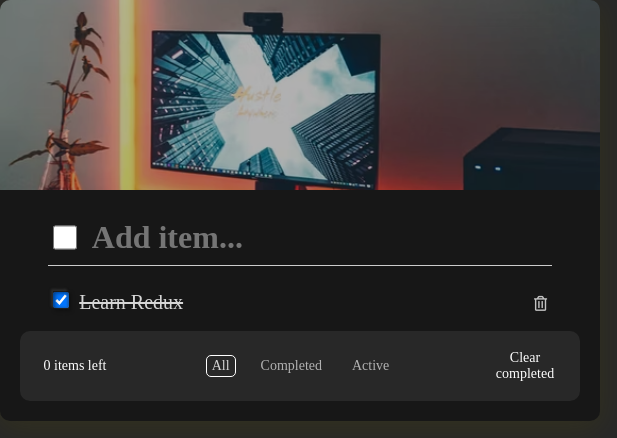
it: ToDoListContainer › should edit todo on double click and blur
Double-click the label with test id "list-item-text".
double_click(131, 302)  # box [79,291,183,313]
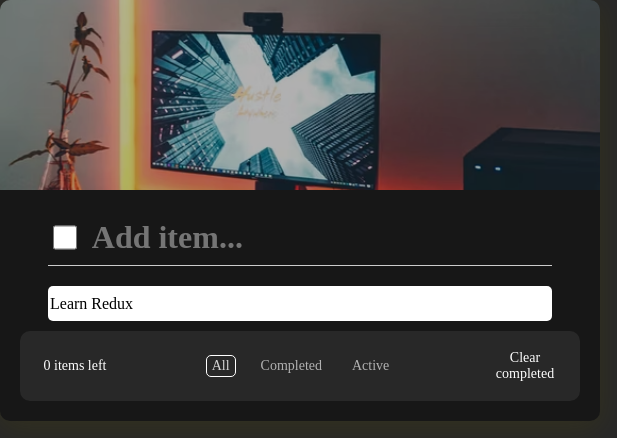
Expected: the field with test id "edit-item" is shown
Type " Native" into the field with test id "edit-item".
click(300, 304); type(" Native")  # box [48,286,552,321]
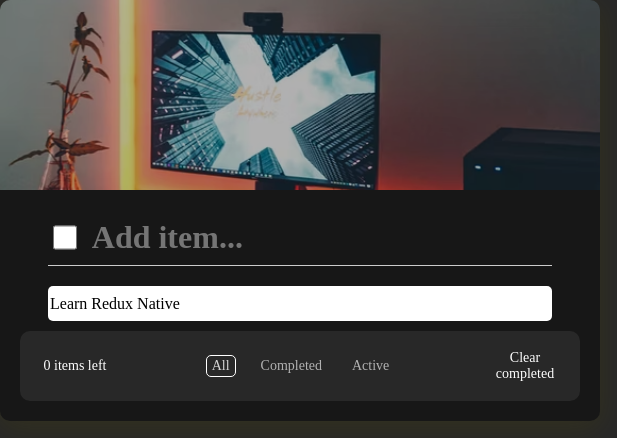
Expected: the field with test id "edit-item" holds "Learn Redux Native", [48,286,552,321]
Click the element with test id "footer".
click(300, 366)  # box [20,331,580,401]
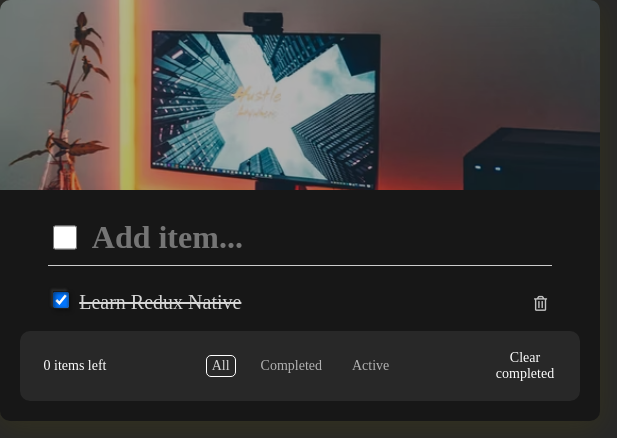
Expected: the field with test id "edit-item" is gone
Expected: the label with test id "list-item-text" reads "Learn Redux Native", [79,291,241,313]
